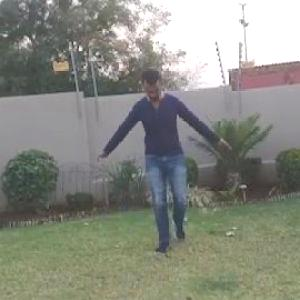land: (87, 62, 226, 270)
